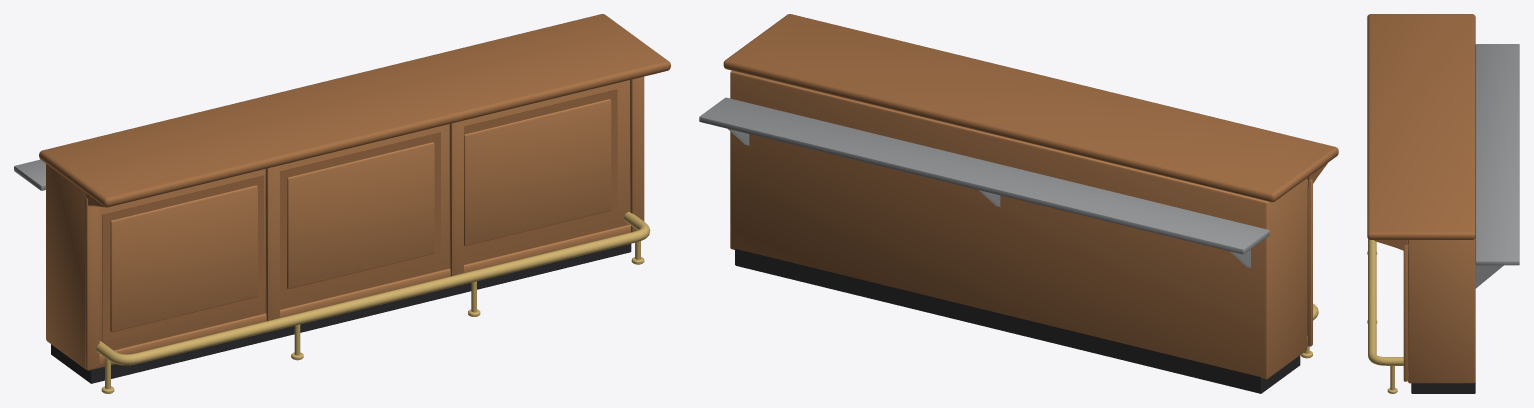
File: BarCounter.fbx
3 renders of one model, left to right at view 1: azimuth 30°, elevation 25°; view 2: azimuth 150°, elevation 25°; view 3: azimuth 270°, elevation 25°, orthographic. The views are drawn at different scales.
Visible parts, largest first — view 1: BarCounter_Mesh; view 2: BarCounter_Mesh; view 3: BarCounter_Mesh.
Part boxes in pixels (<box>): BarCounter_Mesh: <box>14,14,670,393</box>; BarCounter_Mesh: <box>699,14,1338,393</box>; BarCounter_Mesh: <box>1367,14,1519,393</box>.
Size of the model in its own units: 3.08 by 1.08 by 0.9.
